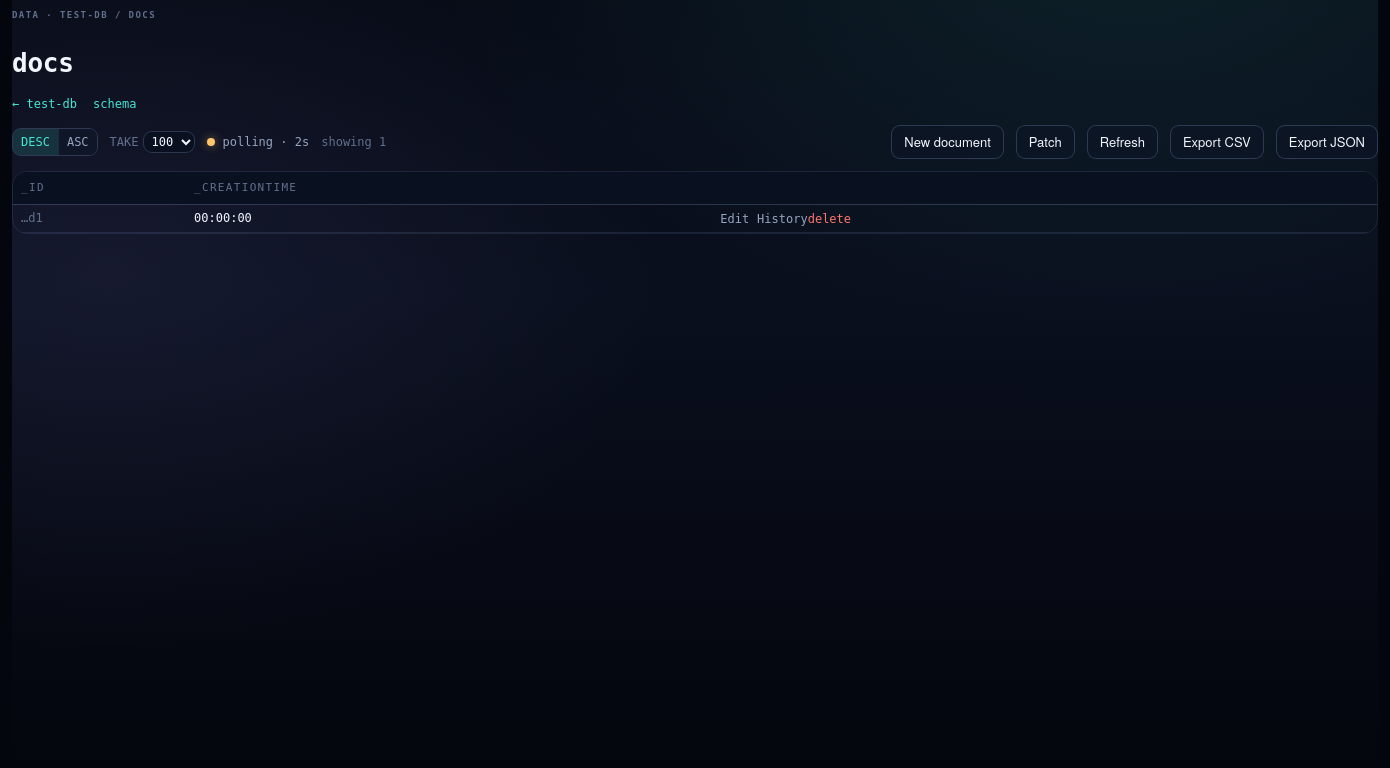
Test case: document history › caps scanning at ten pages and shows the bound/retention disclosure
Click the button "History".
click(782, 219)  # box [757, 210, 808, 228]
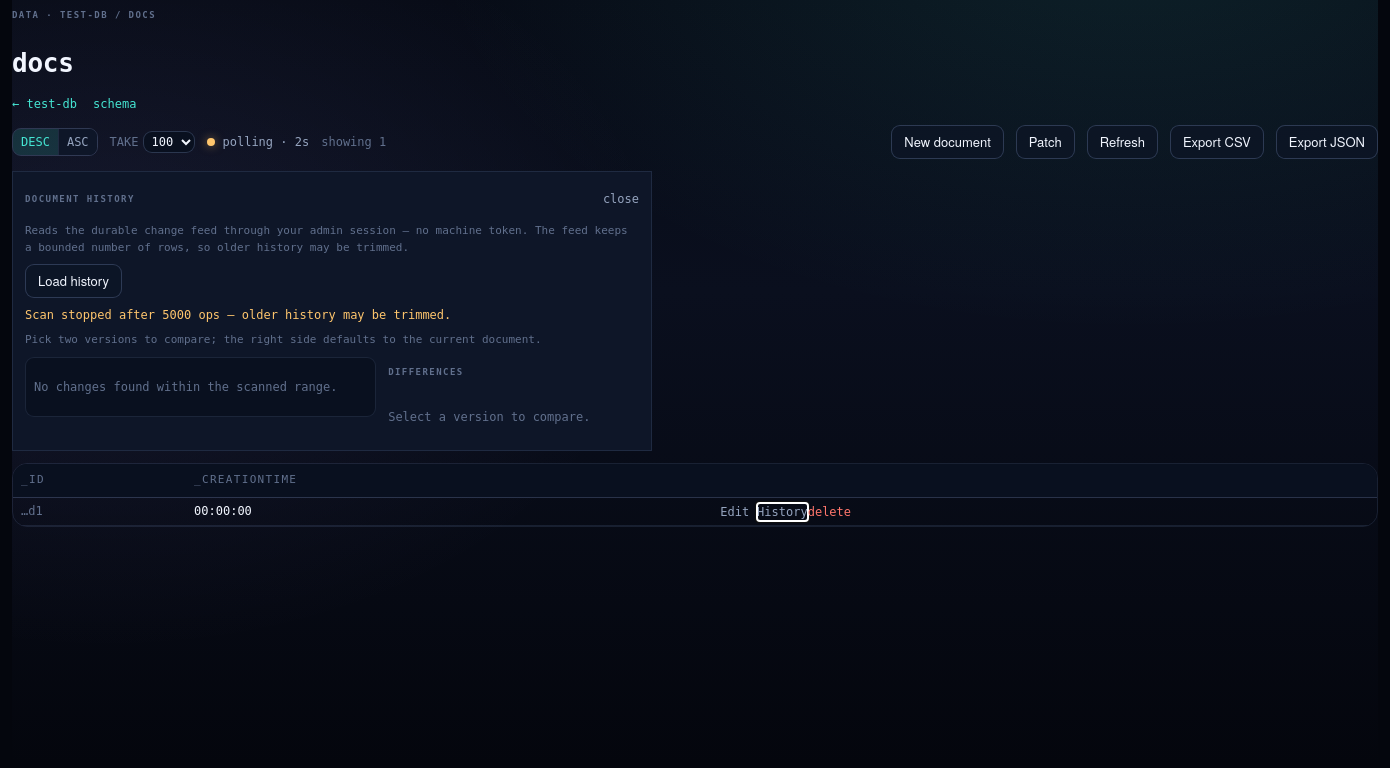
Result: the element named "Version history" is shown at [25, 356, 376, 416]
Result: the text "Scan stopped after 5000 ops — older history may be trimmed." is shown at [25, 308, 451, 322]
